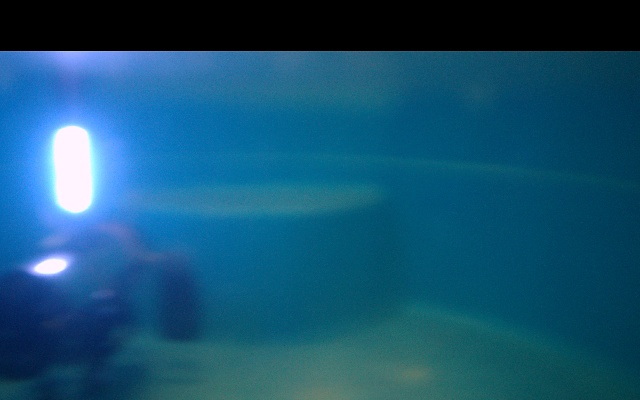white: (51, 125, 96, 218)
